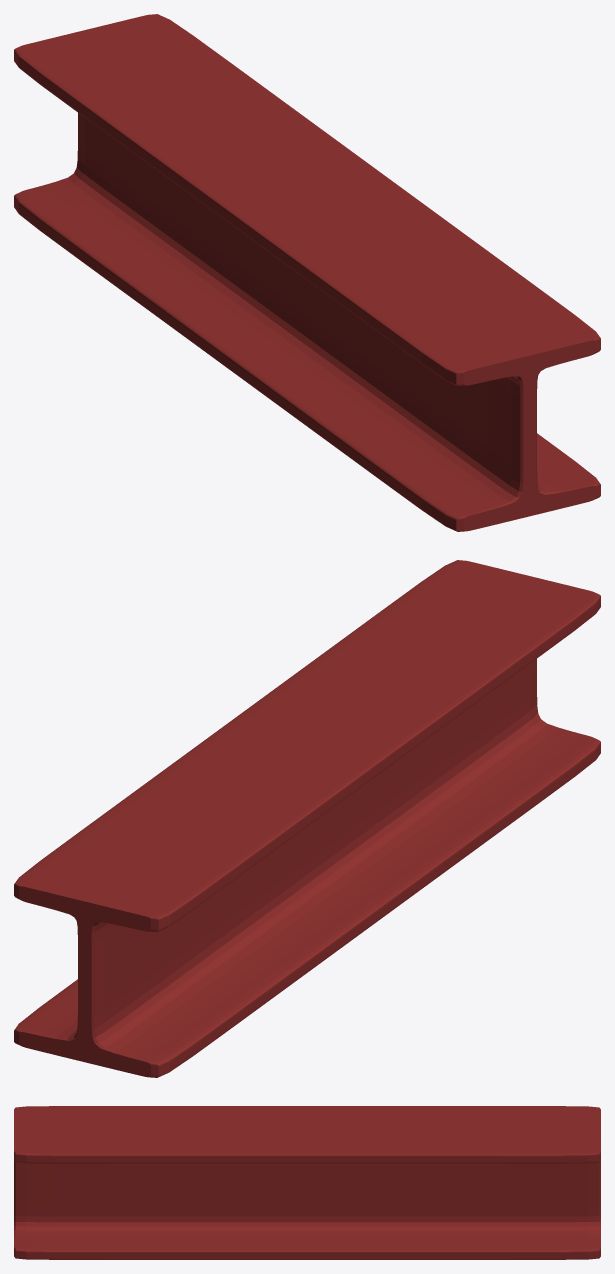
Rendered from steel_straight.fbx.
3 renders of one model, top to bottom at view 1: azimuth 30°, elevation 25°; view 2: azimuth 150°, elevation 25°; view 3: azimuth 270°, elevation 25°, orthographic. The views are drawn at different scales.
Parts seen in each view (by area): view 1: Cube; view 2: Cube; view 3: Cube.
Part boxes in pixels (x1,y1,x2,y2): Cube: (14,14,600,531); Cube: (14,560,600,1077); Cube: (14,1106,600,1259).
Bounding box in the file's own units: 100 × 100 × 500.
